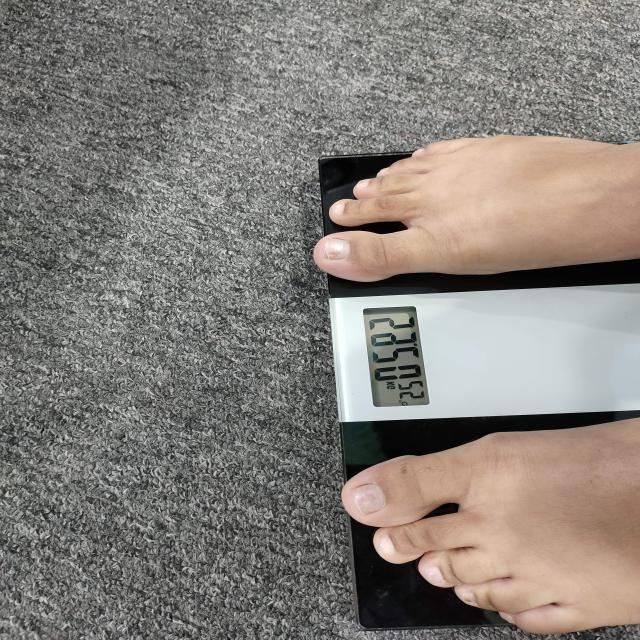ws: (327, 262, 640, 481)
